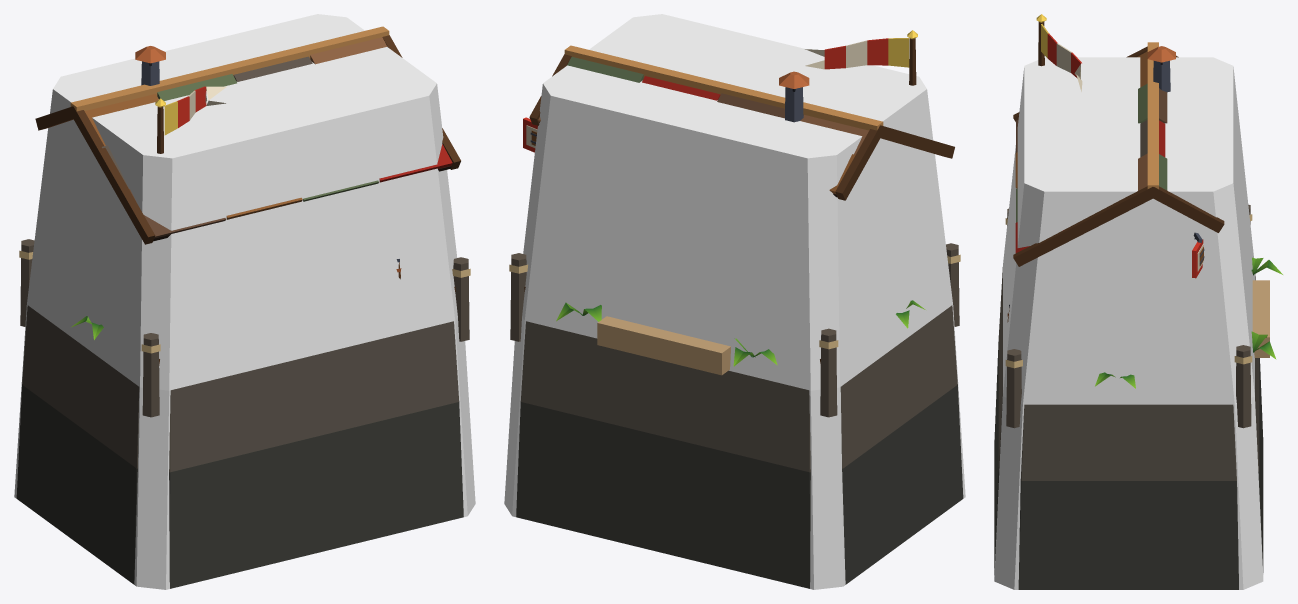
File: pirate_cooperage_barrel_workshop.glb
3 views of the same model, side by side, from view 1: azimuth 30°, elevation 25°; view 2: azimuth 150°, elevation 25°; view 3: azimuth 270°, elevation 25° (orthographic). The views are drawn at different scales.
Parts seen in each view (by area): view 1: col_cooperage_base, pirate_cooperage_barrel_workshop; view 2: col_cooperage_base, pirate_cooperage_barrel_workshop; view 3: col_cooperage_base, pirate_cooperage_barrel_workshop.
Boxes of the visible parts, <box> form: col_cooperage_base: <box>14,14,475,589</box>; pirate_cooperage_barrel_workshop: <box>16,26,470,588</box>; col_cooperage_base: <box>504,14,965,589</box>; pirate_cooperage_barrel_workshop: <box>509,30,963,588</box>; col_cooperage_base: <box>994,57,1263,589</box>; pirate_cooperage_barrel_workshop: <box>994,14,1282,589</box>.
Size of the model in its own units: 5.29 by 6.76 by 4.04.
